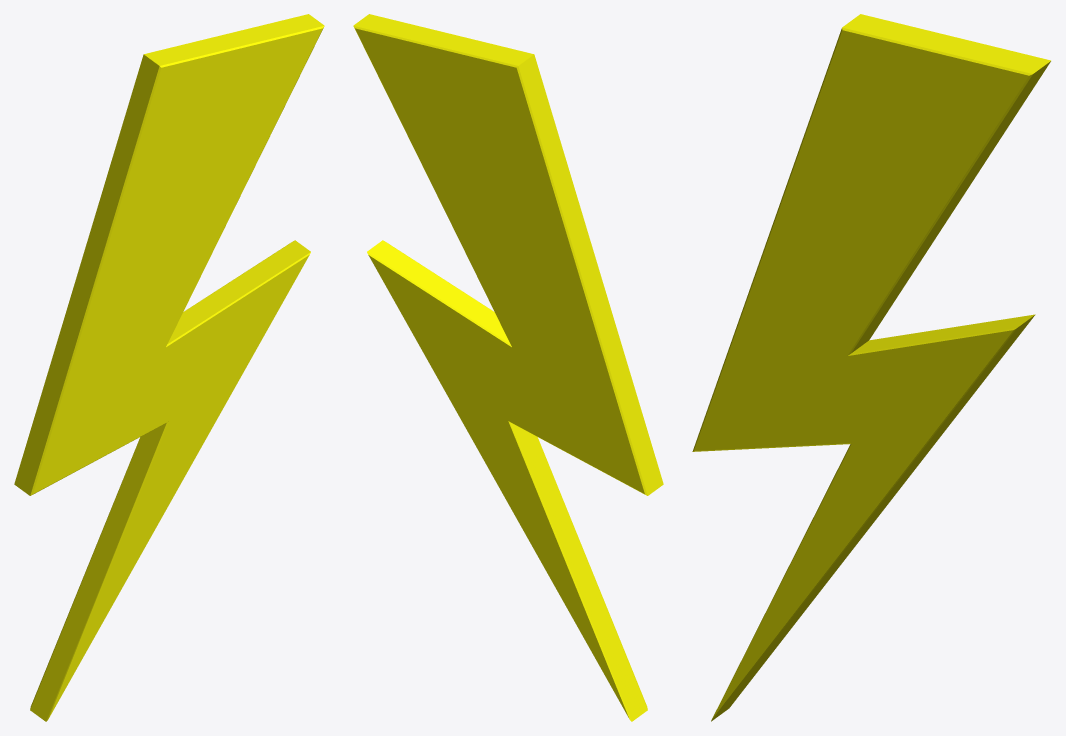
File: lightning-no-circle.fbx
The picture shows the model from 3 angles, left to right: view 1: azimuth 30°, elevation 25°; view 2: azimuth 150°, elevation 25°; view 3: azimuth 330°, elevation 25°; orthographic projection. The views are drawn at different scales.
Visible parts, largest first — view 1: Cap_1, Extrude, Rounding_1; view 2: Cap_2, Extrude, Rounding_2; view 3: Cap_1, Extrude, Rounding_1.
Boxes of the visible parts, x1,y1,x2,y2 form: Cap_1: (33, 28, 322, 717); Extrude: (14, 14, 324, 721); Rounding_1: (30, 26, 324, 721); Cap_2: (355, 28, 644, 717); Extrude: (353, 14, 663, 721); Rounding_2: (353, 26, 647, 721); Cap_1: (694, 30, 1028, 718); Extrude: (711, 14, 1050, 721); Rounding_1: (692, 27, 1032, 721).
Size of the model in its own units: 213 by 433 by 22.
